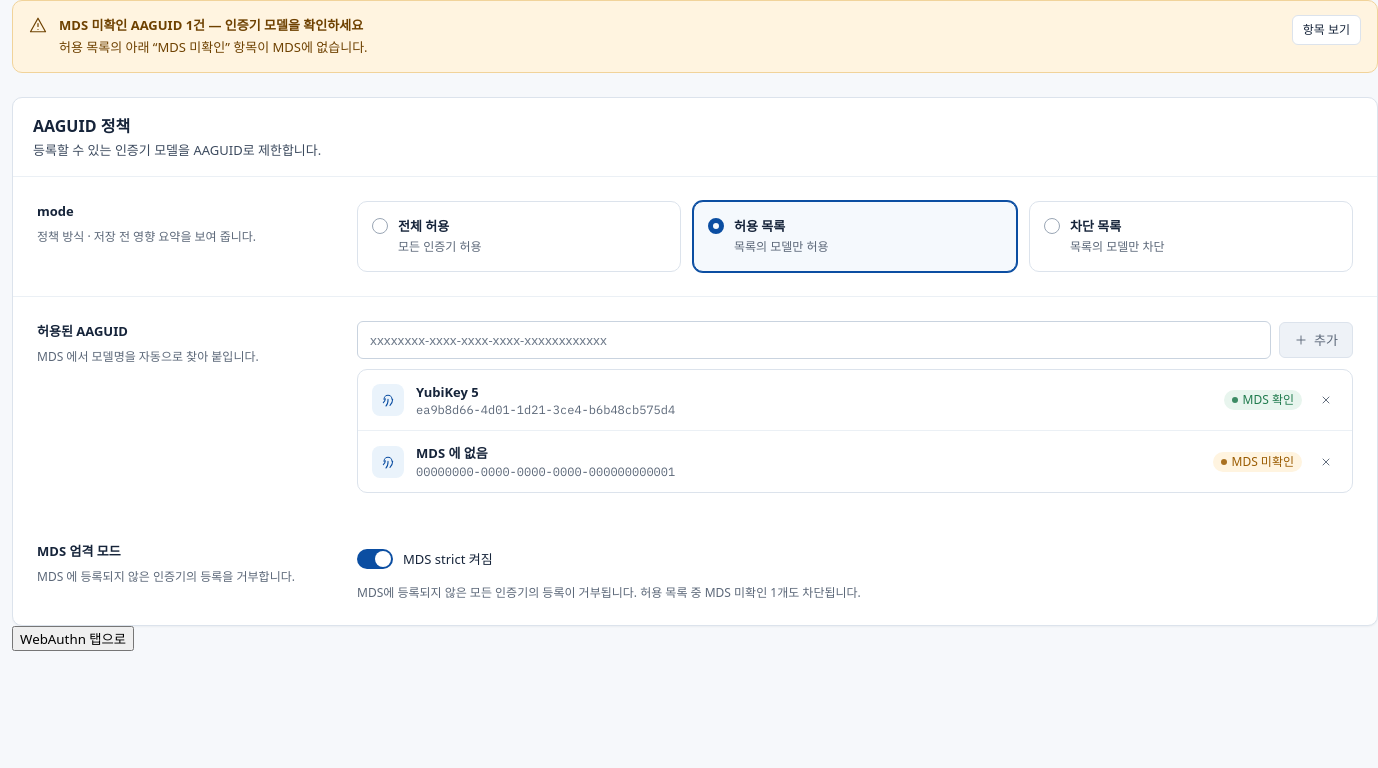
AaguidPolicyTab V2 › 삭제 IconButton → 목록 변경, 되돌리기로 복구
Click the button named "00000000-0000-0000-0000-000000000001 삭제" at (1326, 462), box [1314,450,1338,474]
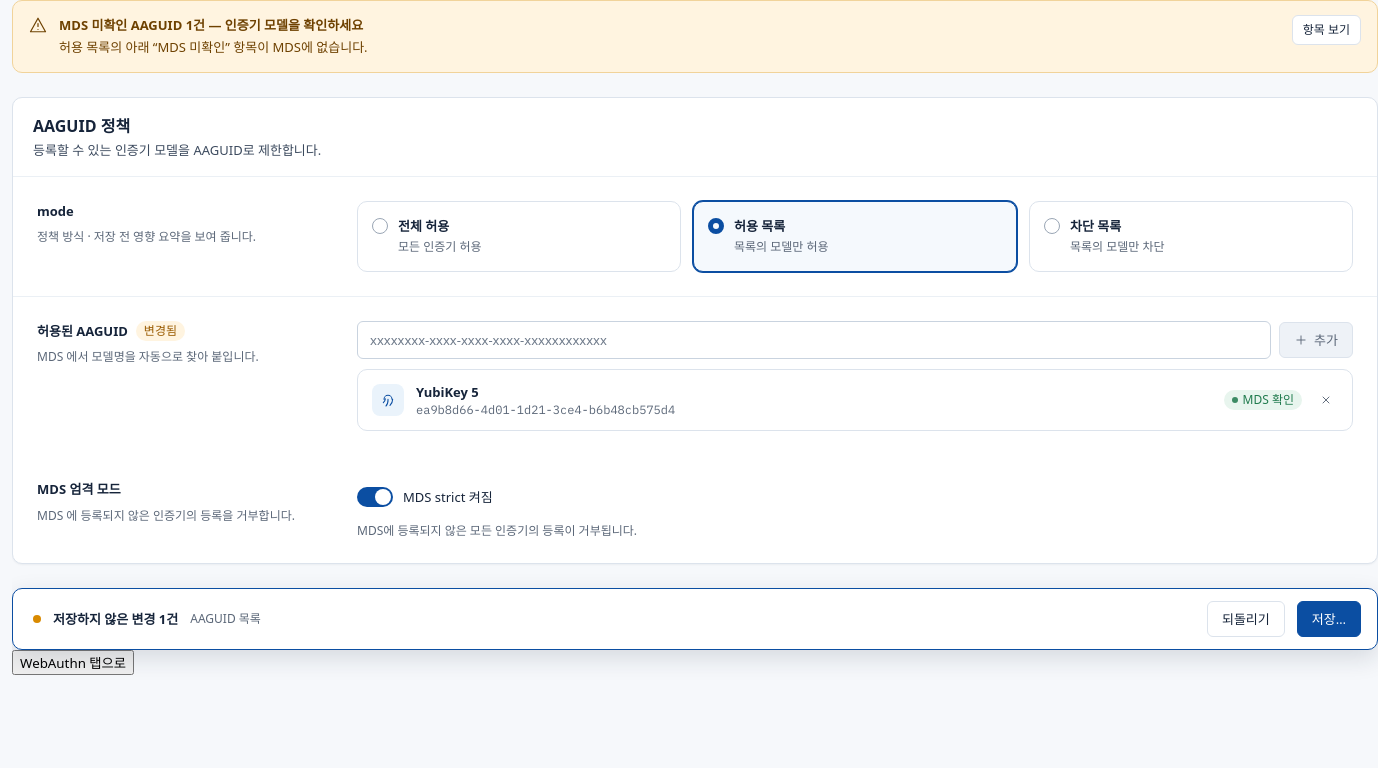
Now the text "MDS 에 없음" is gone
Now the element named "저장되지 않은 변경" shows "AAGUID 목록", box [190,610,261,628]
Click the button "되돌리기" at (1246, 620), box [1207,602,1285,638]
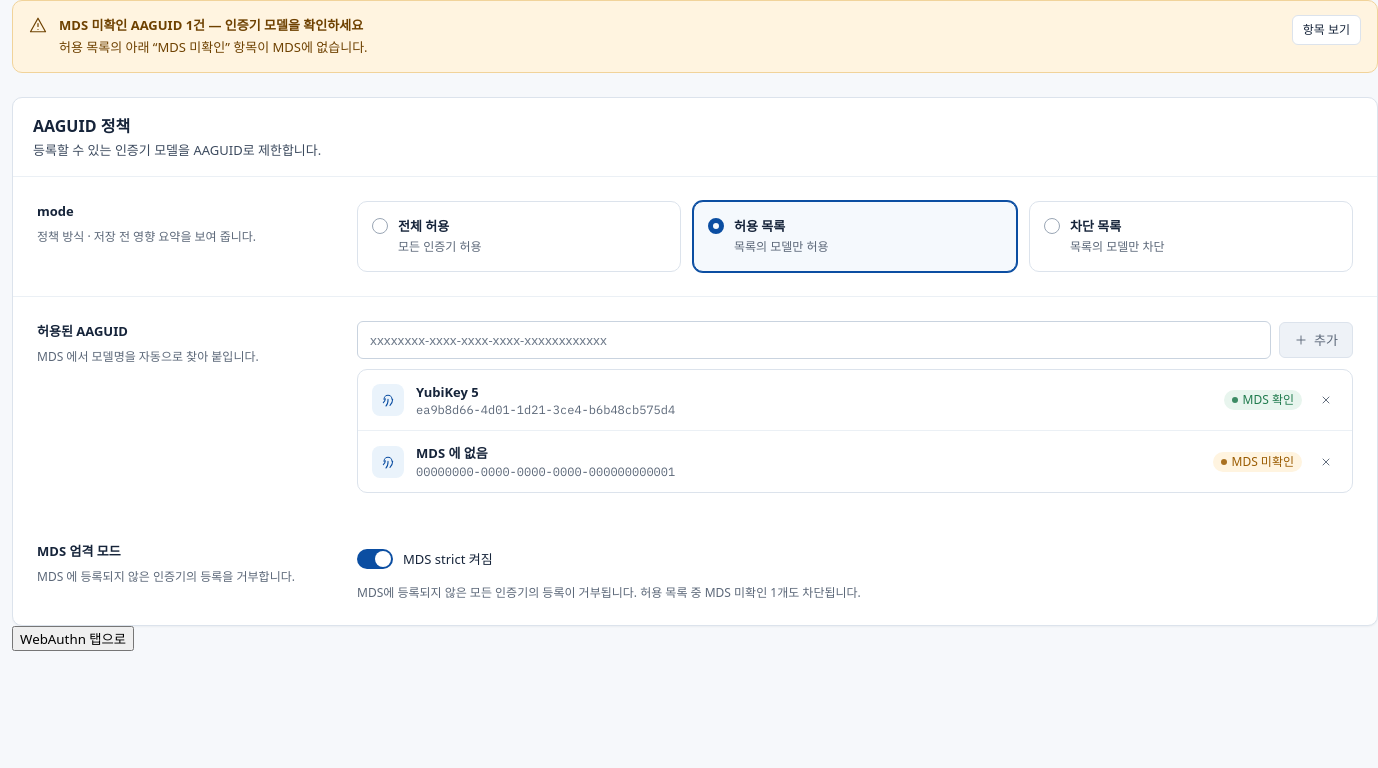
Now the text "MDS 에 없음" is shown, box [416,444,488,462]
